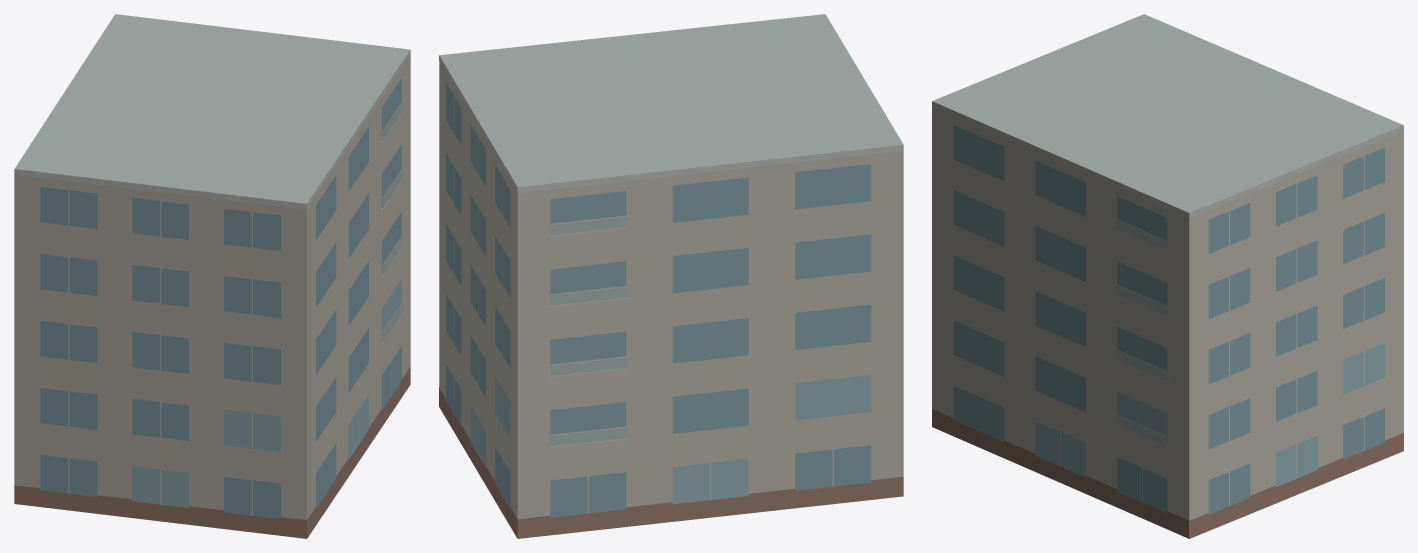
Rendered from survey-upis-32885047.glb.
3 renders of one model, left to right at view 1: azimuth 30°, elevation 25°; view 2: azimuth 150°, elevation 25°; view 3: azimuth 270°, elevation 25°, orthographic. The views are drawn at different scales.
Visible parts, largest first — view 1: survey-upis-32885047.tmp; view 2: survey-upis-32885047.tmp; view 3: survey-upis-32885047.tmp.
Part boxes in pixels (left/top/right/bottom): survey-upis-32885047.tmp: left=14, top=14, right=410, bottom=538; survey-upis-32885047.tmp: left=439, top=14, right=903, bottom=538; survey-upis-32885047.tmp: left=932, top=14, right=1403, bottom=538.
Size of the model in its own units: 18.94 by 14.45 by 18.97.
